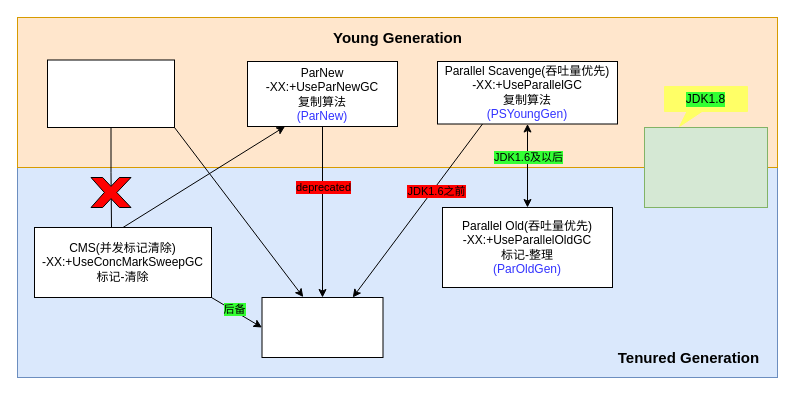
This 795x395 diagram has some shape labels left out. Each missing label, with the centre of its shape:
G1 -XX:+UseG1GC 整体标记-整理 局部复制算法: the point at 706,167
Serial -XX:+UseSerialGC 复制算法 (DefNew): the point at 110,93
Serial Old 标记-整理 (Tenured): the point at 322,327
